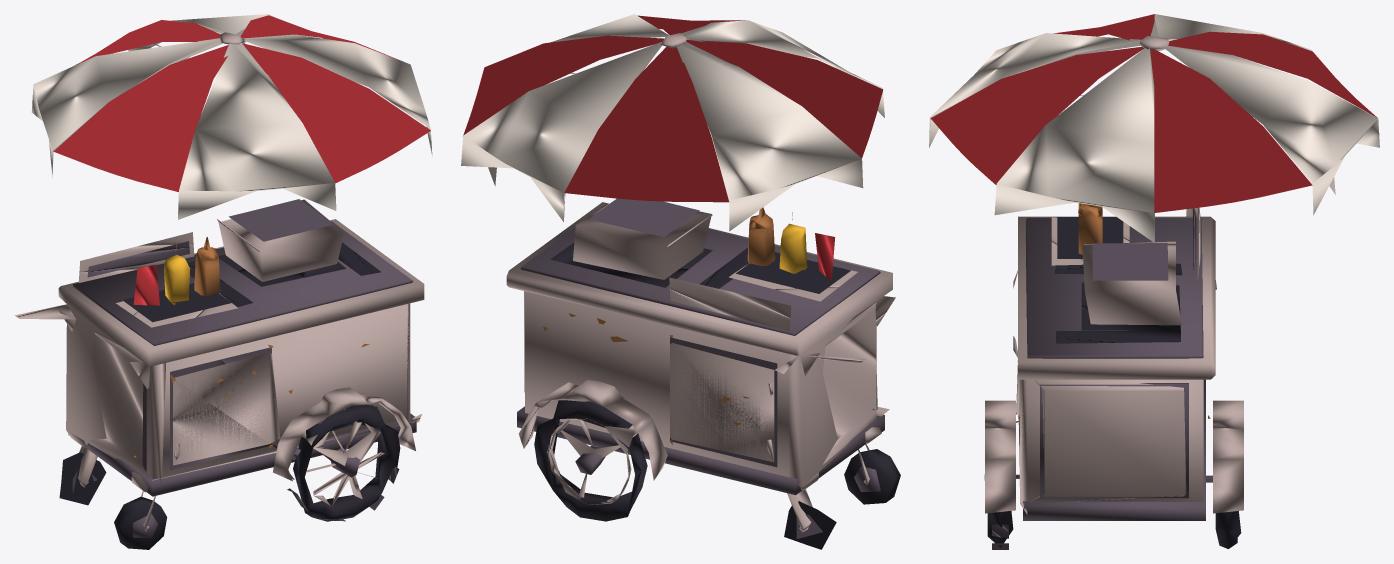
The picture shows the model from 3 angles, left to right: view 1: azimuth 30°, elevation 25°; view 2: azimuth 150°, elevation 25°; view 3: azimuth 270°, elevation 25°; orthographic projection. The views are drawn at different scales.
Size of the model in its own units: 2.37 by 2.65 by 2.25.
